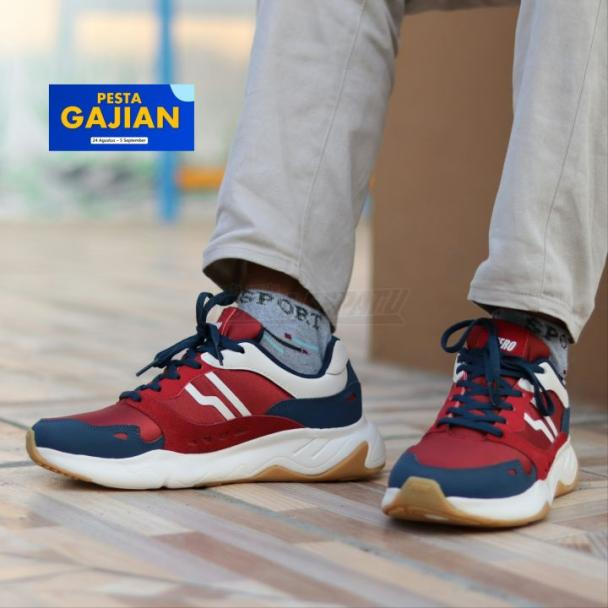Sepatu: (24, 291, 383, 490), (386, 315, 580, 528)
